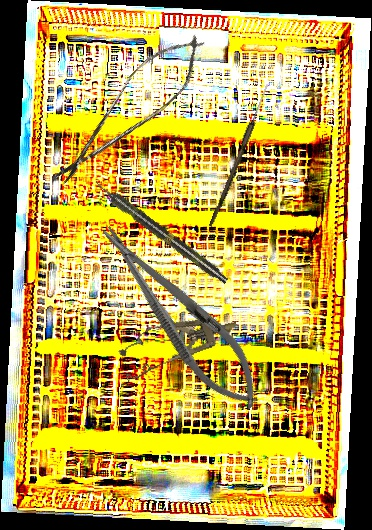Handpiece: (91, 177, 231, 287)
Micro Scissor: (42, 20, 219, 200)
Needle Holder: (84, 209, 278, 423)
Speculum: (114, 300, 244, 385)
Surgical Spoon: (208, 82, 271, 229)
